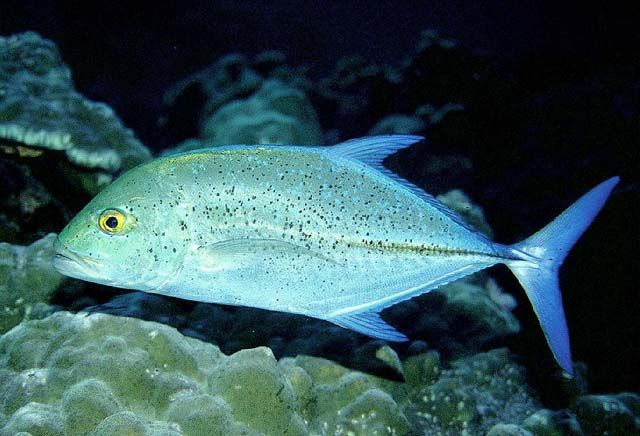fish: (52, 133, 619, 374)
